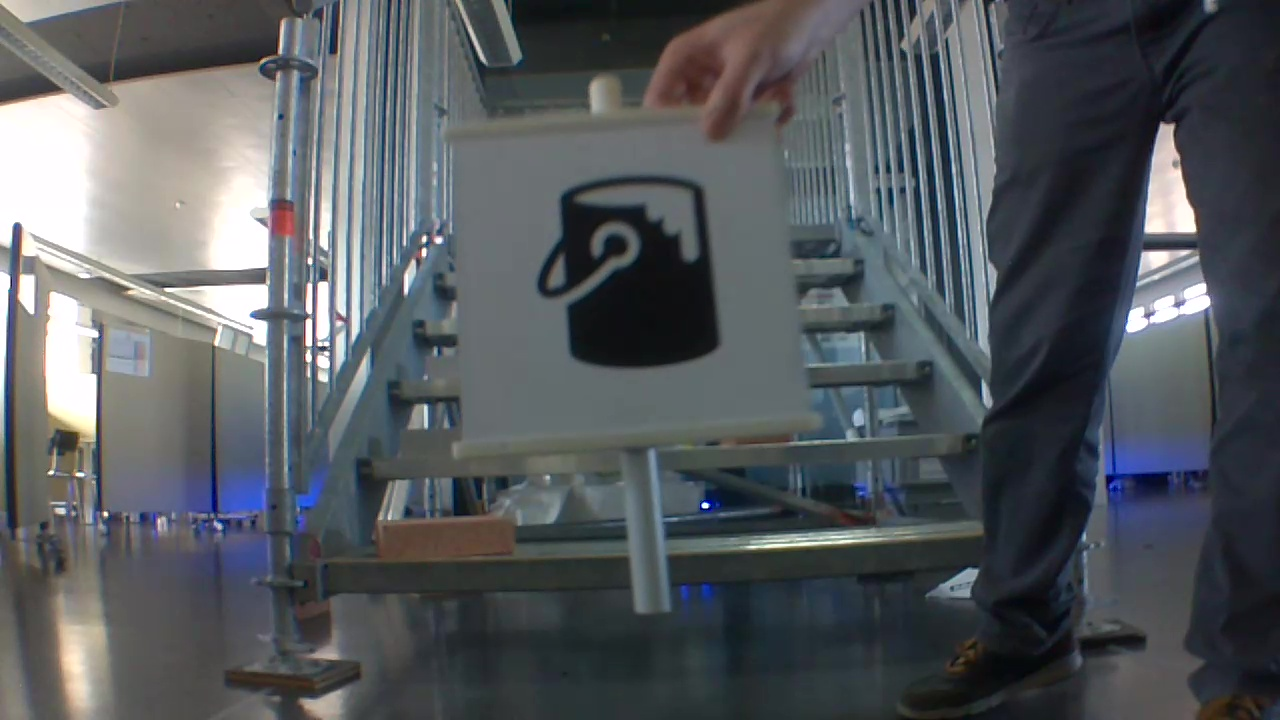brick: (374, 515, 513, 563), (402, 427, 458, 454)
bucket: (535, 162, 719, 379)
